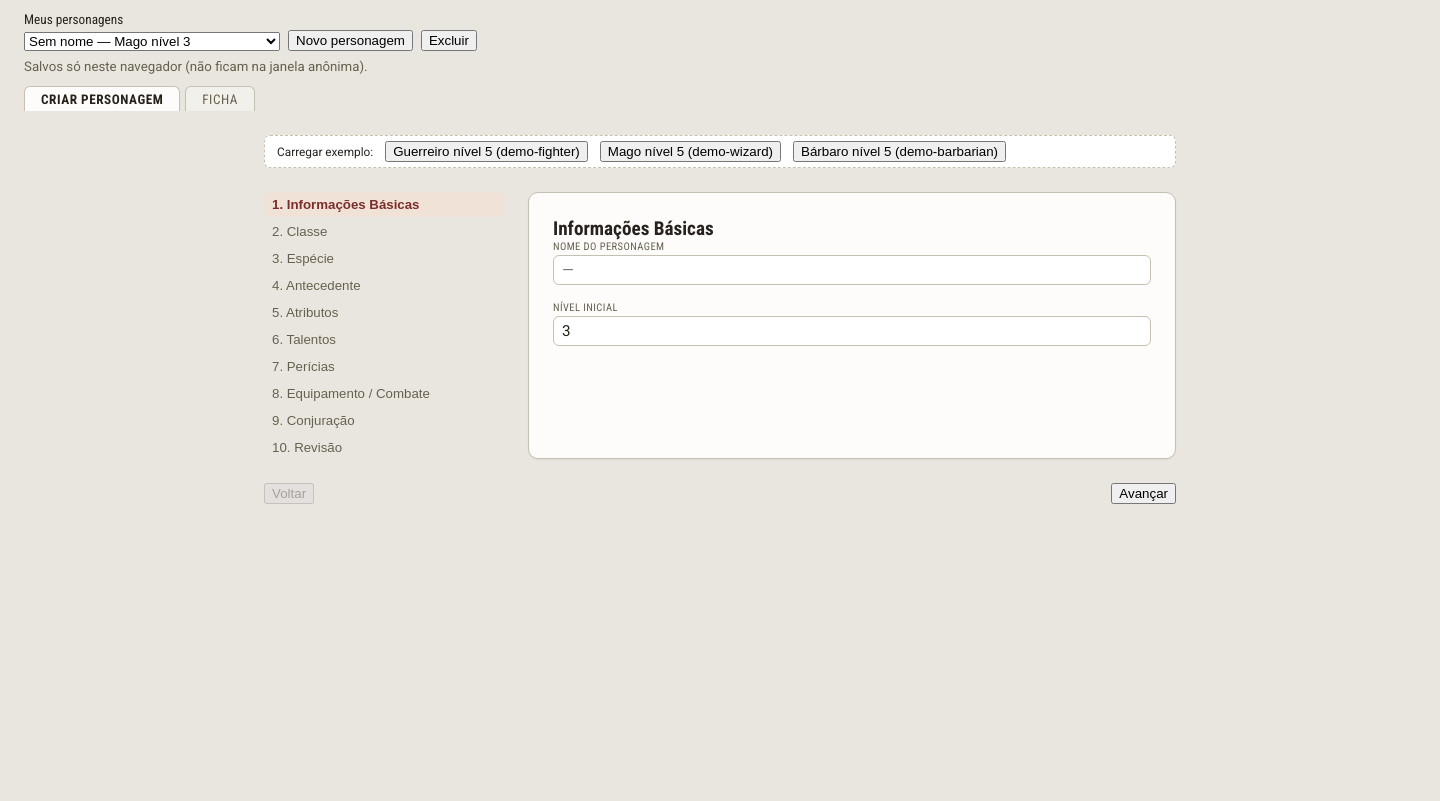
Test: App — modo padrão é o Builder (decisão aprovada §10: interface primária de criação) › Mago no nível 3 passa a mostrar Conjuração no indicador; Subclasse nunca ganha item próprio — aparece como seção dentro de 'Classe' (§2)
The width and height of the screenshot is (1440, 801).
Check: the button "Subclasse" is not shown
Check: the button "9. Conjuração" is shown, box [264,408,504,432]
Click the button "2. Classe".
click(384, 231)  # box [264,219,504,244]
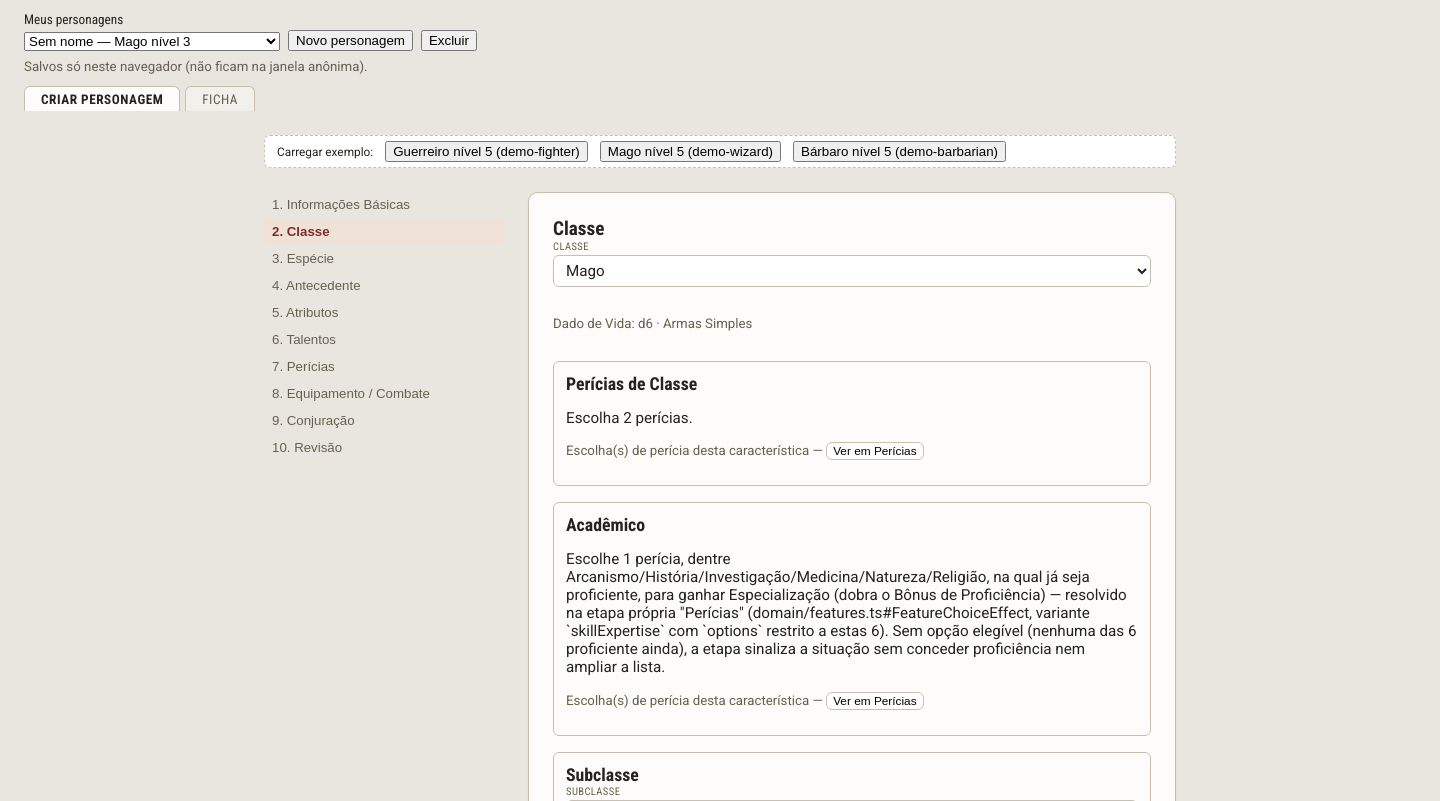
Check: the heading "Subclasse" is shown, box [566,765,639,785]
